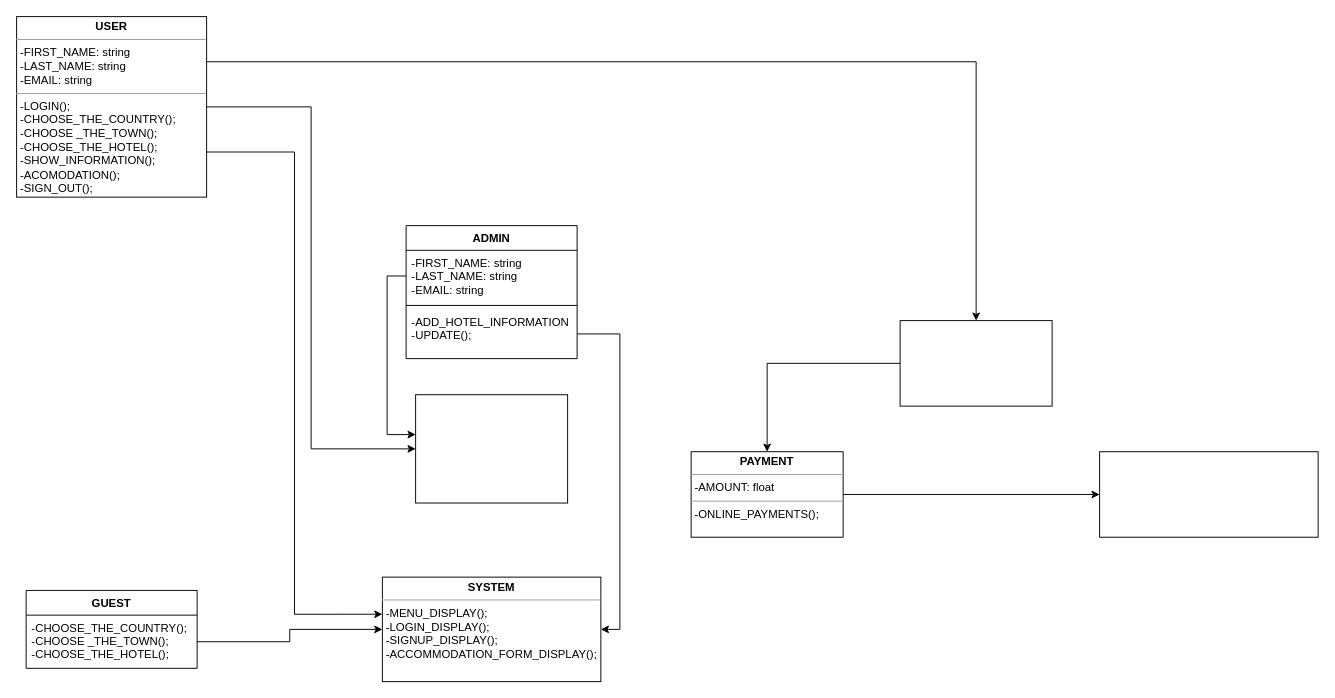
This 1335x698 diagram has some shape labels left out. Here are the shapes that lost their labels. From the top down, the centre of each, then its label:
the point at 975,363: ACCOMMODATION -ADRESS: string -ONLINE_REZERVATION();
the point at 491,448: DATABASE -USER -ADMIN -HOTELS -ACCOMMODATION -WISH_LIST
the point at 1208,494: CREDIT CARD -BANK_NAME: string -BANK_ACCOUNT_NUMBER: string
